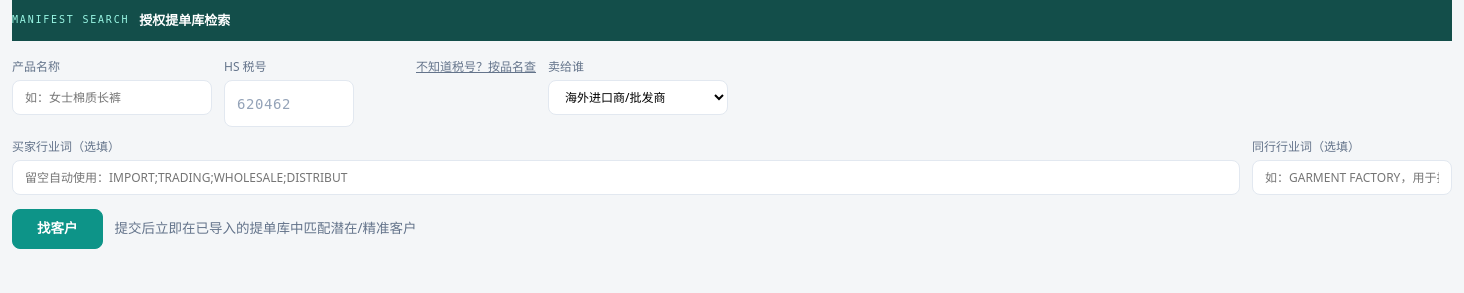
Scenario: QuickStartForm 税号自动推荐 › 品名填后 HS 空时显示推荐 chip 并点击填入
Step 1. Type "女士棉质长裤" into the field labelled "产品名称" → [112, 98], box [12, 80, 212, 115]
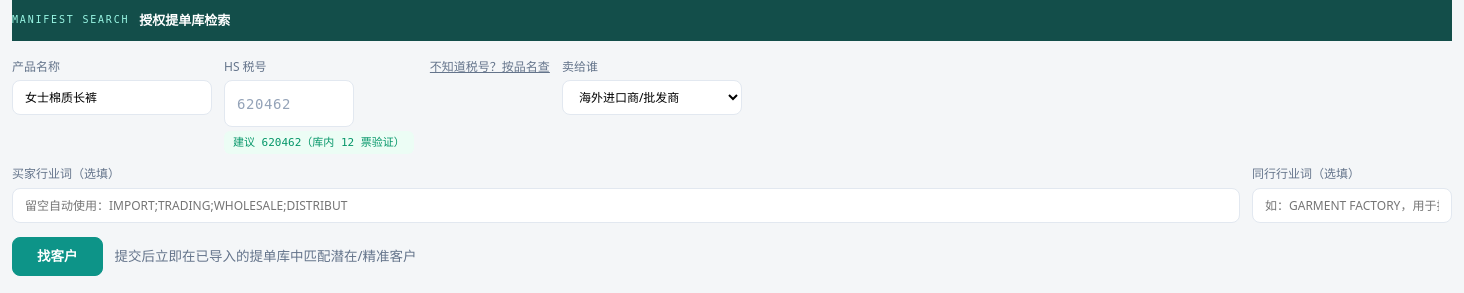
Expected: the button with test id "hs-auto-chip" shows "620462"
Expected: the button with test id "hs-auto-chip" shows "12 票"
Step 2. Click the button with test id "hs-auto-chip" → [319, 143], box [224, 131, 414, 154]
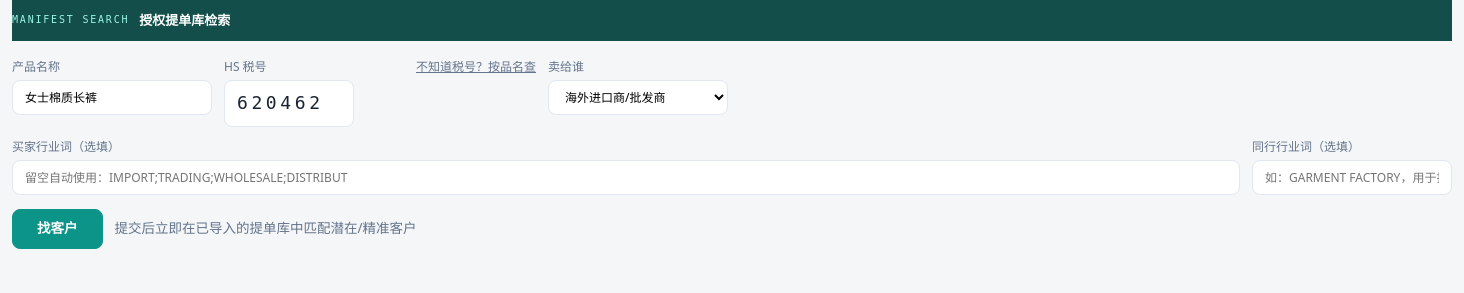
Expected: the field with test id "quickstart-hs" holds "620462", [224, 80, 354, 127]
